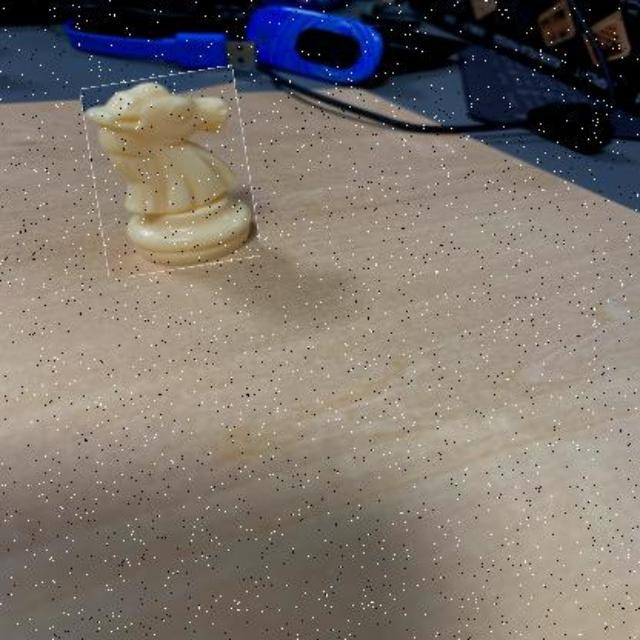white-knight: (87, 70, 254, 273)
